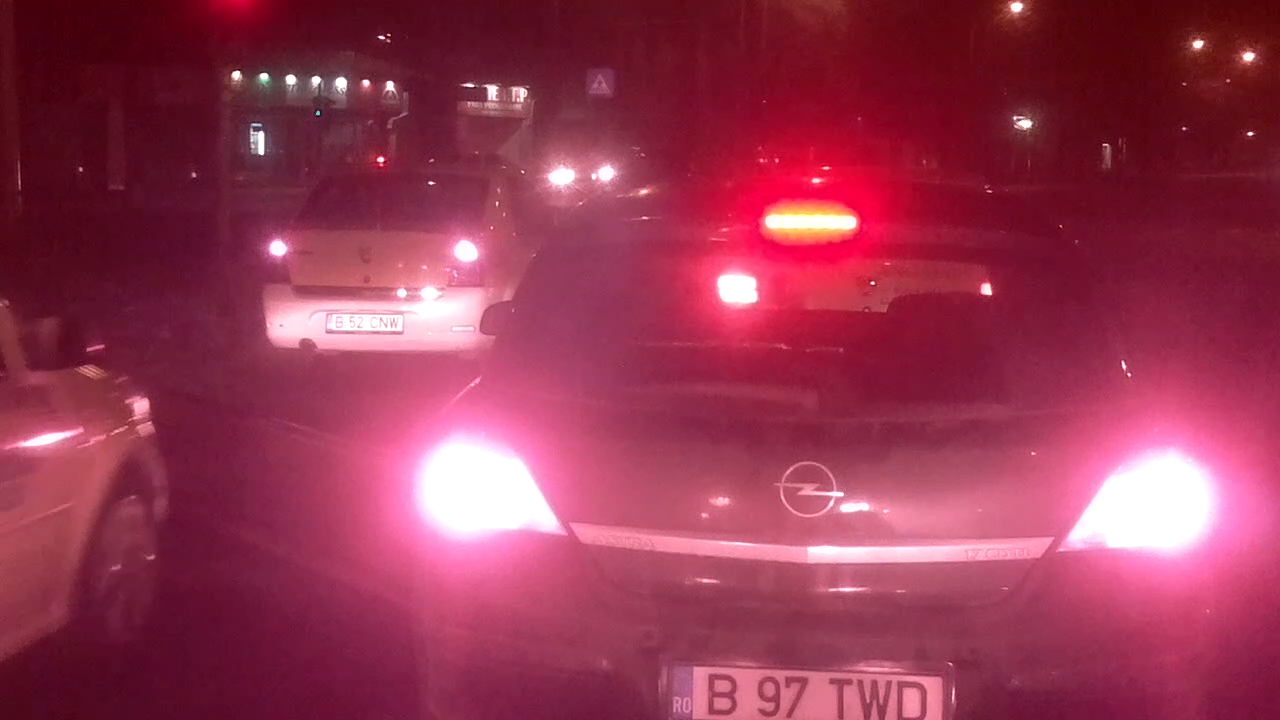license-plate: (322, 309, 407, 336)
